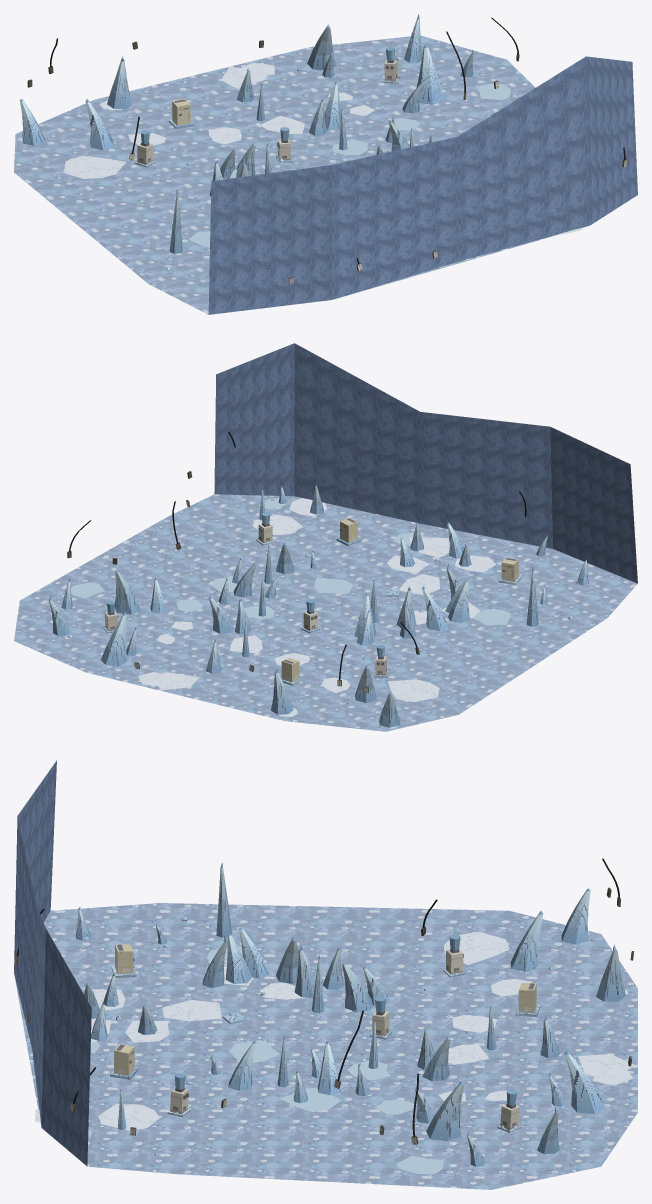
Rendered from ice.glb.
3 views of the same model, one above another, from view 1: azimuth 30°, elevation 25°; view 2: azimuth 150°, elevation 25°; view 3: azimuth 270°, elevation 25° (orthographic). The views are drawn at different scales.
Parts seen in each view (by area): view 1: Cave_Walls, Cave_Floor, Snow_Patch_08, Stalagmite_40, Stalagmite_27, Stalagmite_37, Stalagmite_24, Stalagmite_00, Snow_Patch_05, Stalagmite_20, Stalagmite_34, Snow_Patch_14 (+5 smaller); view 2: Cave_Floor, Cave_Walls, Snow_Patch_08, Stalagmite_24, Stalagmite_40, Stalagmite_27, Snow_Patch_15, Stalagmite_26, Stalagmite_31, Snow_Patch_10; view 3: Cave_Floor, Cave_Walls, Stalagmite_40, Stalagmite_24, Snow_Patch_08, Snow_Patch_10, Stalagmite_37, Snow_Patch_15, Snow_Patch_05, Stalagmite_27, Stalagmite_00, Stalagmite_39 (+16 smaller).
Part boxes in pixels (bbox=[...]): Cave_Walls: bbox=[208, 56, 637, 314]; Cave_Floor: bbox=[14, 35, 582, 314]; Snow_Patch_08: bbox=[64, 155, 126, 178]; Stalagmite_40: bbox=[416, 45, 444, 104]; Stalagmite_27: bbox=[107, 56, 131, 108]; Stalagmite_37: bbox=[85, 99, 113, 149]; Stalagmite_24: bbox=[307, 24, 335, 70]; Stalagmite_00: bbox=[20, 99, 45, 145]; Snow_Patch_05: bbox=[221, 67, 267, 89]; Stalagmite_20: bbox=[324, 81, 341, 129]; Stalagmite_34: bbox=[404, 14, 422, 62]; Snow_Patch_14: bbox=[260, 115, 305, 133]; Cave_Floor: bbox=[14, 494, 637, 731]; Cave_Walls: bbox=[214, 343, 637, 583]; Snow_Patch_08: bbox=[387, 679, 439, 702]; Stalagmite_24: bbox=[101, 612, 127, 665]; Stalagmite_40: bbox=[115, 570, 141, 614]; Stalagmite_27: bbox=[271, 668, 293, 714]; Snow_Patch_15: bbox=[399, 574, 439, 595]; Stalagmite_26: bbox=[422, 586, 448, 630]; Stalagmite_31: bbox=[448, 580, 469, 622]; Snow_Patch_10: bbox=[252, 514, 302, 535]; Cave_Floor: bbox=[14, 903, 637, 1189]; Cave_Walls: bbox=[14, 760, 91, 1166]; Stalagmite_40: bbox=[426, 1081, 464, 1141]; Stalagmite_24: bbox=[565, 1050, 605, 1113]; Snow_Patch_08: bbox=[443, 931, 509, 964]; Snow_Patch_10: bbox=[98, 1103, 159, 1130]; Stalagmite_37: bbox=[510, 910, 543, 971]; Snow_Patch_15: bbox=[163, 1000, 221, 1021]; Snow_Patch_05: bbox=[578, 1054, 635, 1078]; Stalagmite_27: bbox=[596, 944, 625, 1001]; Stalagmite_00: bbox=[561, 888, 590, 944]; Stalagmite_39: bbox=[342, 962, 372, 1012].
Bounding box in the file's own units: 37 × 12.24 × 34.
Materials: 12 (10 with a texture image).
